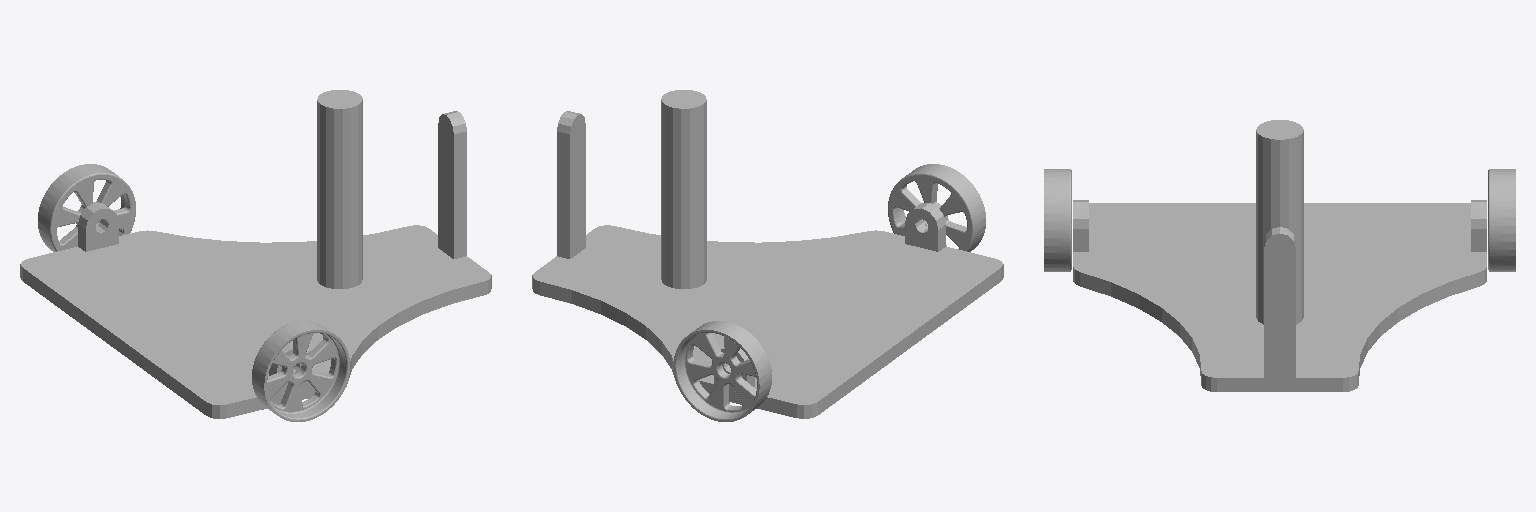
robot.urdf — Car_1:
<?xml version="1.0" encoding="utf-8"?>
<!-- This URDF was automatically created by SolidWorks to URDF Exporter! Originally created by [author] ([email redacted]) 
     Commit Version: 1.6.0-1-g15f4949  Build Version: 1.6.7594.29634
     For more information, please see http://wiki.ros.org/sw_urdf_exporter -->
<robot
  name="Car_1">
  <link
    name="base_link">
    <inertial>
      <origin
        xyz="-0.051941384919569 2.87161683638156E-18 0.0176351053030645"
        rpy="0 0 0" />
      <mass
        value="0.608379807117841" />
      <inertia
        ixx="0.00270780161093748"
        ixy="1.83523696969695E-18"
        ixz="-0.000466901162534425"
        iyy="0.0036443624416039"
        iyz="9.43451341696599E-19"
        izz="0.0052251348540921" />
    </inertial>
    <visual>
      <origin
        xyz="0 0 0"
        rpy="0 0 0" />
      <geometry>
        <mesh
          filename="package://Car_1/meshes/base_link.STL" />
      </geometry>
      <material
        name="">
        <color
          rgba="0.752941176470588 0.752941176470588 0.752941176470588 1" />
      </material>
    </visual>
    <collision>
      <origin
        xyz="0 0 0"
        rpy="0 0 0" />
      <geometry>
        <mesh
          filename="package://Car_1/meshes/base_link.STL" />
      </geometry>
    </collision>
  </link>
  <link
    name="lwheel_link">
    <inertial>
      <origin
        xyz="2.77555756156289E-17 -0.00295821946504571 3.46944695195361E-18"
        rpy="0 0 0" />
      <mass
        value="0.0203132942311367" />
      <inertia
        ixx="7.33043982917312E-06"
        ixy="-1.0014250588411E-21"
        ixz="7.2781884837501E-21"
        iyy="1.39291601103077E-05"
        iyz="6.71684802553164E-22"
        izz="7.33043982917311E-06" />
    </inertial>
    <visual>
      <origin
        xyz="0 0 0"
        rpy="0 0 0" />
      <geometry>
        <mesh
          filename="package://Car_1/meshes/lwheel_link.STL" />
      </geometry>
      <material
        name="">
        <color
          rgba="0.752941176470588 0.752941176470588 0.752941176470588 1" />
      </material>
    </visual>
    <collision>
      <origin
        xyz="0 0 0"
        rpy="0 0 0" />
      <geometry>
        <mesh
          filename="package://Car_1/meshes/lwheel_link.STL" />
      </geometry>
    </collision>
  </link>
  <joint
    name="lwheel_joint"
    type="continuous">
    <origin
      xyz="-0.11 0.1395 0.026"
      rpy="0 0 0" />
    <parent
      link="base_link" />
    <child
      link="lwheel_link" />
    <axis
      xyz="0 -1 0" />
  </joint>
  <link
    name="rwheel_link">
    <inertial>
      <origin
        xyz="2.77555756156289E-17 -0.00295821946504568 1.04083408558608E-17"
        rpy="0 0 0" />
      <mass
        value="0.0203132942311367" />
      <inertia
        ixx="7.33043982917312E-06"
        ixy="8.68041222761222E-22"
        ixz="7.29278556594031E-21"
        iyy="1.39291601103077E-05"
        iyz="-8.14575690586412E-22"
        izz="7.33043982917312E-06" />
    </inertial>
    <visual>
      <origin
        xyz="0 0 0"
        rpy="0 0 0" />
      <geometry>
        <mesh
          filename="package://Car_1/meshes/rwheel_link.STL" />
      </geometry>
      <material
        name="">
        <color
          rgba="0.752941176470588 0.752941176470588 0.752941176470588 1" />
      </material>
    </visual>
    <collision>
      <origin
        xyz="0 0 0"
        rpy="0 0 0" />
      <geometry>
        <mesh
          filename="package://Car_1/meshes/rwheel_link.STL" />
      </geometry>
    </collision>
  </link>
  <joint
    name="rwheel_joint"
    type="continuous">
    <origin
      xyz="-0.11 -0.1395 0.026"
      rpy="3.14159265358979 0 0" />
    <parent
      link="base_link" />
    <child
      link="rwheel_link" />
    <axis
      xyz="0 -1 0" />
  </joint>
</robot>

--- What the picture shows (computed from the rendered views, not written in the file) ---
The picture shows the robot from 3 angles, left to right: view 1: azimuth 30°, elevation 25°; view 2: azimuth 150°, elevation 25°; view 3: azimuth 270°, elevation 25°; orthographic projection.
Model Car_1 with 3 links and 2 joints (2 continuous), rooted at base_link, posed every joint at zero.
Visible links, largest first — view 1: base_link, rwheel_link, lwheel_link; view 2: base_link, lwheel_link, rwheel_link; view 3: base_link, lwheel_link, rwheel_link.
Link boxes in pixels (x1,y1,x2,y2): base_link: (20,90,491,418); rwheel_link: (252,321,349,421); lwheel_link: (38,164,135,251); base_link: (532,90,1003,418); lwheel_link: (673,321,771,421); rwheel_link: (888,164,985,251); base_link: (1073,120,1486,391); lwheel_link: (1488,169,1515,271); rwheel_link: (1044,169,1071,271).
Size in the robot's own frame: 0.26 by 0.296 by 0.1465 metres.
Meshes: 3 distinct files referenced, 3 mesh visuals loaded (3 binary STL).